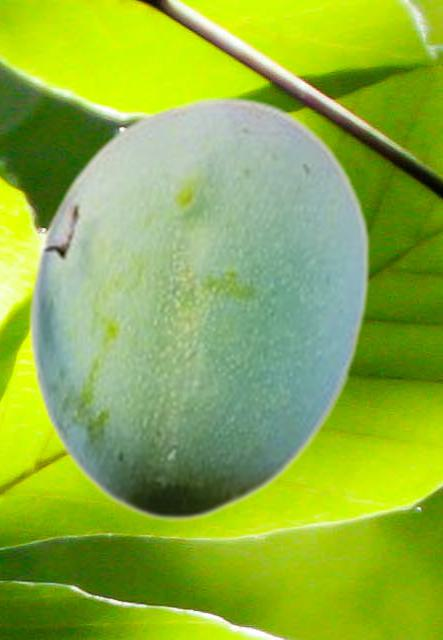green_mango: (27, 95, 370, 520)
